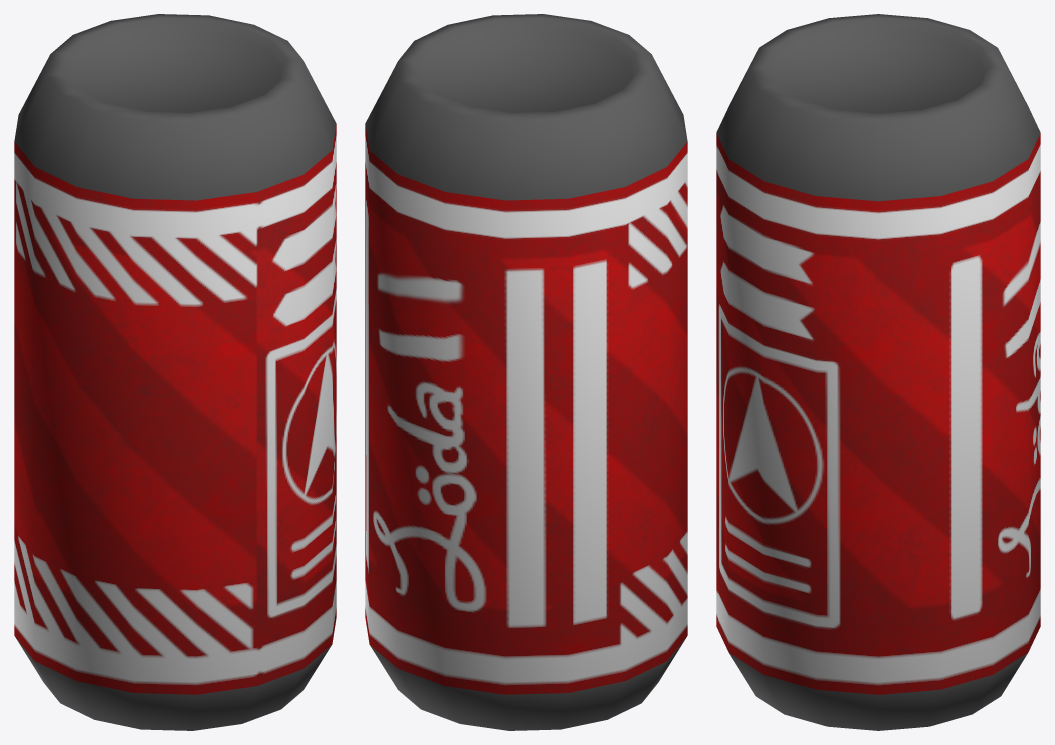
File: CanLow.fbx
3 views of the same model, side by side, from view 1: azimuth 30°, elevation 25°; view 2: azimuth 150°, elevation 25°; view 3: azimuth 270°, elevation 25° (orthographic).
Visible parts, largest first — view 1: Can; view 2: Can; view 3: Can.
Part boxes in pixels (x1=…): Can: x1=14, y1=14, x2=336, y2=730; Can: x1=365, y1=14, x2=687, y2=730; Can: x1=716, y1=14, x2=1040, y2=730.
Size of the model in its own units: 14.34 by 29.88 by 14.34.
2 materials, 1 textured.
